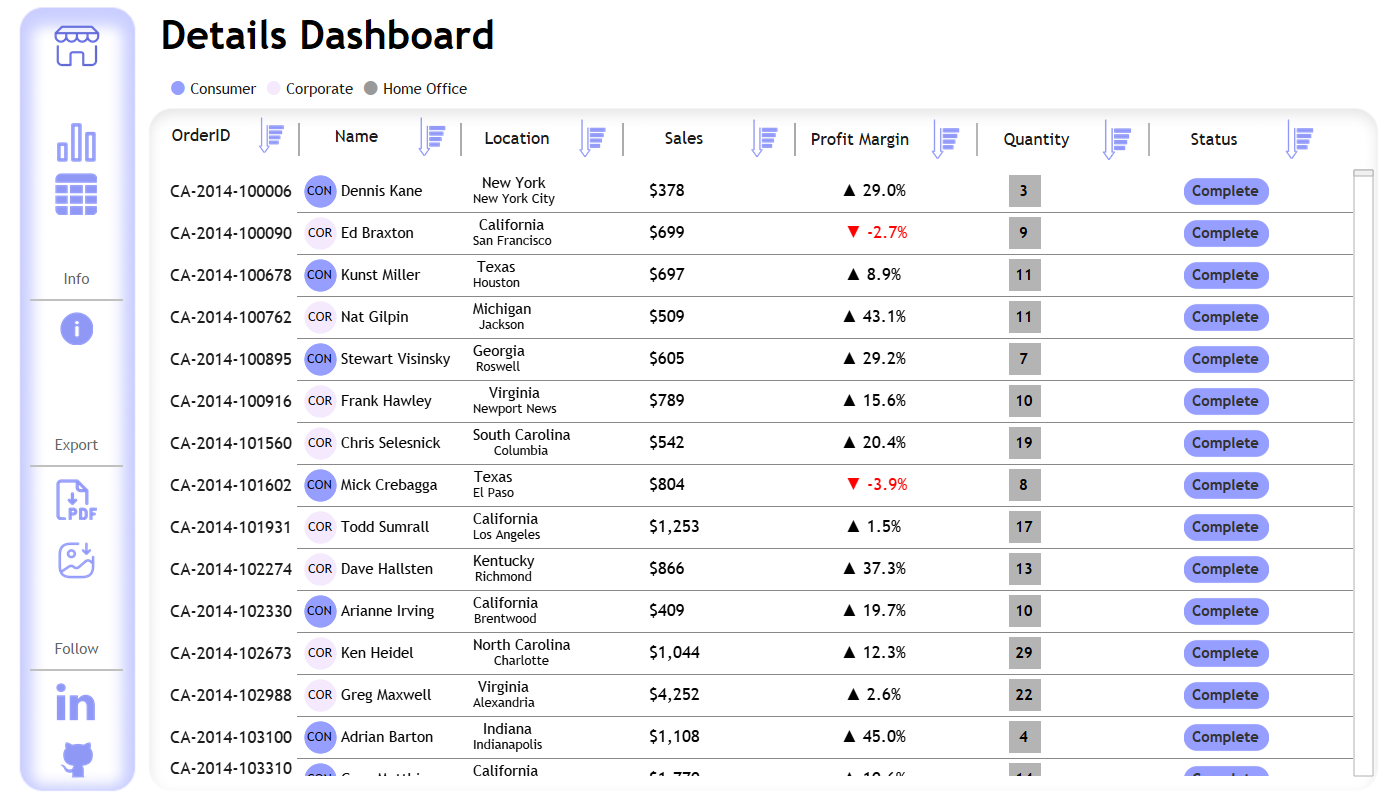

This screenshot's page, from the dashboard's own definition file:
{"tool":"tableau","page":{"name":"Details","canvas":[1400,800],"ordinal":0},"visuals":[{"type":"image","param":"Image/Details Background.png","box":[0,0,1400,800]},{"type":"text","box":[153,0,547,113]},{"type":"blank","box":[700,0,146,113]},{"type":"image","param":"Image/Details Informations.png","box":[140,1,1258,798]},{"type":"image","param":"Image/store.png","box":[20,20,113,50.7]},{"type":"blank","box":[20,70.7,113,50.7]},{"type":"text","box":[153,113,96,44]},{"type":"dashboard-object","box":[249,113,44,44]},{"type":"blank","box":[293,113,12,53]},{"type":"text","box":[305,113,103,47]},{"type":"dashboard-object","box":[408,113,47,47]},{"type":"blank","box":[455,113,12,53]},{"type":"text","box":[467,113,100,50]},{"type":"dashboard-object","box":[567,113,50,50]},{"type":"blank","box":[617,113,12,53]},{"type":"text","box":[629,113,100,50]},{"type":"dashboard-object","box":[729,113,50,50]},{"type":"blank","box":[779,113,12,53]},{"type":"text","box":[791,113,118,52]},{"type":"dashboard-object","box":[909,113,52,52]},{"type":"blank","box":[961,113,12,53]},{"type":"text","box":[973,113,107,53]},{"type":"dashboard-object","box":[1080,113,53,53]},{"type":"blank","box":[1133,113,12,53]},{"type":"text","box":[1145,113,118,52]},{"type":"dashboard-object","box":[1263,113,52,52]},{"type":"dashboard-object","box":[20,121.5,113,42]},{"type":"filter","title":"Details Table","param":"[federated.092n5at1iwde1215xpvts0dch7du].[none:Order ID:nk]","box":[153,157,140,60]},{"type":"filter","title":"Details Table","param":"[federated.092n5at1iwde1215xpvts0dch7du].[none:Customer Name:nk]","box":[305,160,150,60]},{"type":"filter","title":"Details Table","param":"[federated.092n5at1iwde1215xpvts0dch7du].[none:State:nk]","box":[467,163,150,60]},{"type":"filter","title":"Details Table","param":"[federated.092n5at1iwde1215xpvts0dch7du].[sum:Sales:qk]","box":[629,163,150,51]},{"type":"blank","box":[20,163.5,113,10]},{"type":"filter","title":"Details Table","param":"[federated.092n5at1iwde1215xpvts0dch7du].[usr:Calculation_1548393914851164160:nk","box":[791,165,170,58]},{"type":"filter","title":"Details Table","param":"[federated.092n5at1iwde1215xpvts0dch7du].[none:Calculation_74872411712827395:nk]","box":[1145,165,170,60]},{"type":"worksheet","title":"Details Table","mark":"Circle","rows":["Order ID"],"cols":["Calculation_74872411705106433","Calculation_74872411705106433","Calculation_74872411718529031","Calculation_74872411720339465","Calculation_74872411720339465","Calculation_74872411724111885","Calculation_74872411724660751","Calculation_74872411724660751"],"box":[153,166,1227,614]},{"type":"filter","title":"Details Table","param":"[federated.092n5at1iwde1215xpvts0dch7du].[sum:Quantity:qk]","box":[973,166,160,51]},{"type":"dashboard-object","box":[20,173.5,113,42]},{"type":"blank","box":[20,215.5,113,50.7]},{"type":"filter","title":"Details Table","param":"[federated.092n5at1iwde1215xpvts0dch7du].[none:City:nk]","box":[467,223,150,60]},{"type":"text","box":[20,266.2,113,26]},{"type":"blank","box":[20,292.2,113,16]},{"type":"dashboard-object","box":[20,308.2,113,41]},{"type":"blank","box":[20,349.3,113,32]},{"type":"blank","box":[20,381.3,113,50.7]},{"type":"text","box":[20,432,113,26]},{"type":"blank","box":[20,458,113,16]},{"type":"dashboard-object","box":[20,474,113,50.7]},{"type":"blank","box":[20,524.7,113,10]},{"type":"dashboard-object","box":[20,534.7,113,50.7]},{"type":"blank","box":[20,585.5,113,50.7]},{"type":"text","box":[20,636.2,113,26]},{"type":"blank","box":[20,662.2,113,16]},{"type":"image","param":"Image/linkedin.png","box":[20,678.2,113,50.7]},{"type":"blank","box":[20,729,113,10]},{"type":"image","param":"Image/github.png","box":[20,739,113,41]}]}

Visuals, with their boxes on the page's 1400x800 design canvas (x1, y1, x2, y2). These are canvas units, not pixel positions in the 1400x800 screenshot, which may show the page scaled, cropped or inside an application window:
image: l=0, t=0, r=1400, b=800
text: l=153, t=0, r=700, b=113
blank: l=700, t=0, r=846, b=113
image: l=140, t=1, r=1398, b=799
image: l=20, t=20, r=133, b=71
blank: l=20, t=71, r=133, b=121
text: l=153, t=113, r=249, b=157
dashboard-object: l=249, t=113, r=293, b=157
blank: l=293, t=113, r=305, b=166
text: l=305, t=113, r=408, b=160
dashboard-object: l=408, t=113, r=455, b=160
blank: l=455, t=113, r=467, b=166
text: l=467, t=113, r=567, b=163
dashboard-object: l=567, t=113, r=617, b=163
blank: l=617, t=113, r=629, b=166
text: l=629, t=113, r=729, b=163
dashboard-object: l=729, t=113, r=779, b=163
blank: l=779, t=113, r=791, b=166
text: l=791, t=113, r=909, b=165
dashboard-object: l=909, t=113, r=961, b=165
blank: l=961, t=113, r=973, b=166
text: l=973, t=113, r=1080, b=166
dashboard-object: l=1080, t=113, r=1133, b=166
blank: l=1133, t=113, r=1145, b=166
text: l=1145, t=113, r=1263, b=165
dashboard-object: l=1263, t=113, r=1315, b=165
dashboard-object: l=20, t=122, r=133, b=164
"Details Table" filter: l=153, t=157, r=293, b=217
"Details Table" filter: l=305, t=160, r=455, b=220
"Details Table" filter: l=467, t=163, r=617, b=223
"Details Table" filter: l=629, t=163, r=779, b=214
blank: l=20, t=164, r=133, b=174
"Details Table" filter: l=791, t=165, r=961, b=223
"Details Table" filter: l=1145, t=165, r=1315, b=225
"Details Table" worksheet (Circle marks): l=153, t=166, r=1380, b=780
"Details Table" filter: l=973, t=166, r=1133, b=217
dashboard-object: l=20, t=174, r=133, b=216
blank: l=20, t=216, r=133, b=266
"Details Table" filter: l=467, t=223, r=617, b=283
text: l=20, t=266, r=133, b=292
blank: l=20, t=292, r=133, b=308
dashboard-object: l=20, t=308, r=133, b=349
blank: l=20, t=349, r=133, b=381
blank: l=20, t=381, r=133, b=432
text: l=20, t=432, r=133, b=458
blank: l=20, t=458, r=133, b=474
dashboard-object: l=20, t=474, r=133, b=525
blank: l=20, t=525, r=133, b=535
dashboard-object: l=20, t=535, r=133, b=585
blank: l=20, t=586, r=133, b=636
text: l=20, t=636, r=133, b=662
blank: l=20, t=662, r=133, b=678
image: l=20, t=678, r=133, b=729
blank: l=20, t=729, r=133, b=739
image: l=20, t=739, r=133, b=780
